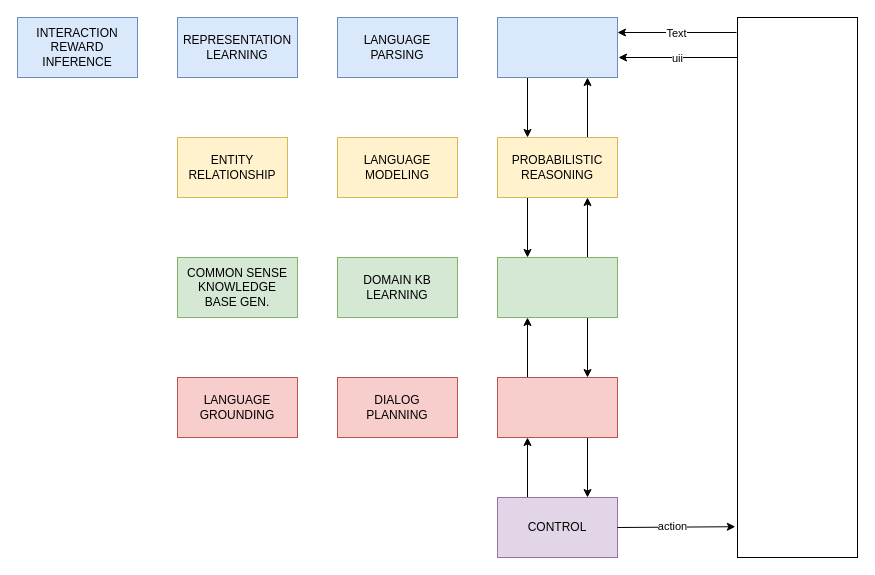
The diagram is 875 pixels wide and 575 high, and some of its shapes have lost their labels. The centre of each missing label's shape, as x and y in pixels:
ENVIRONMENT: [797,287]
INTERACTION PARSING: [557,47]
KNOWLEDGE BASE & LOGICAL REASONING: [557,287]
PLANNING: [557,407]
